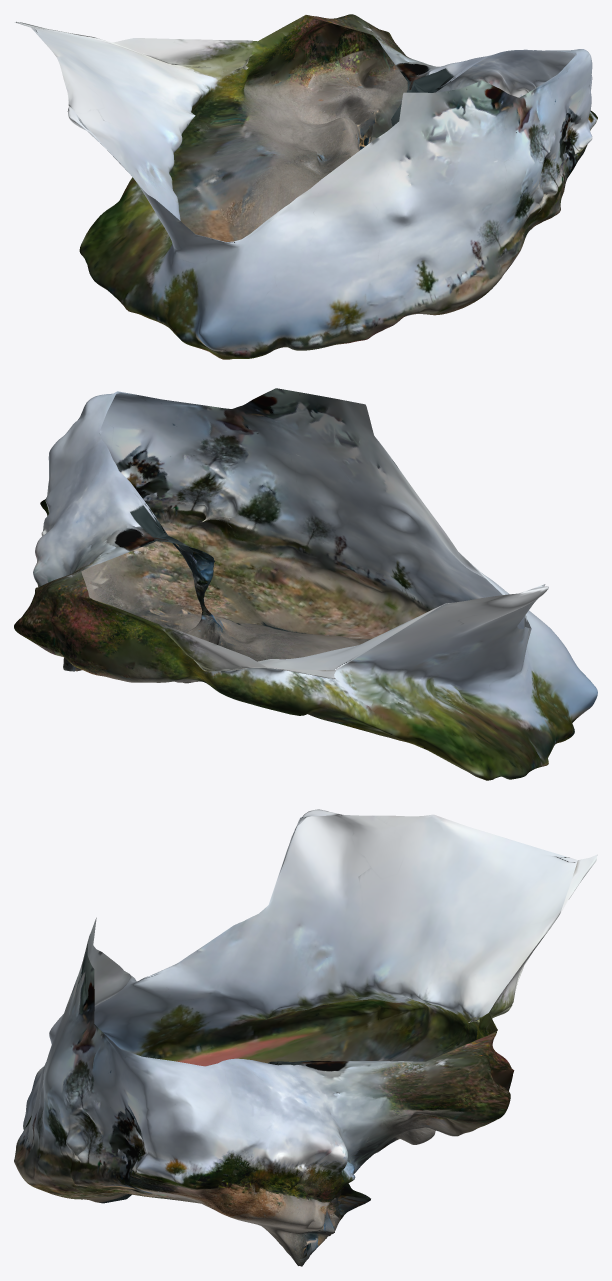
File: pumptrack_aschheim.glb
The picture shows the model from 3 angles, top to bottom: view 1: azimuth 30°, elevation 25°; view 2: azimuth 150°, elevation 25°; view 3: azimuth 270°, elevation 25°; orthographic projection. The views are drawn at different scales.
Parts seen in each view (by area): view 1: Mesh; view 2: Mesh; view 3: Mesh.
Boxes of the visible parts, x1,y1,x2,y2 form: Mesh: (14, 14, 597, 359); Mesh: (14, 388, 597, 780); Mesh: (14, 809, 597, 1266).
Size of the model in its own units: 4.15 by 1.88 by 3.63.
Materials: 1 (1 with a texture image).
